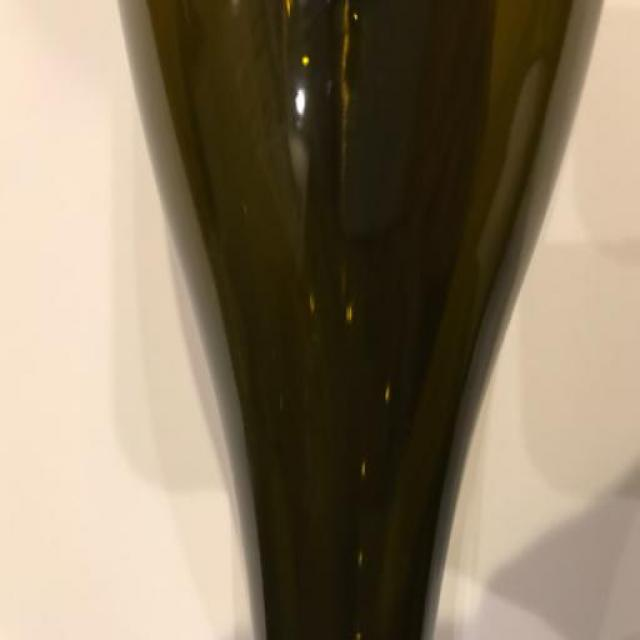Waste: (121, 2, 602, 640)
